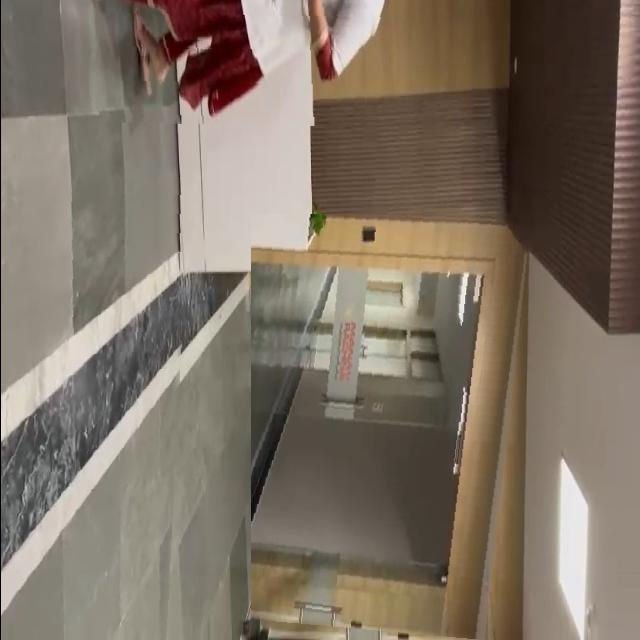door: (250, 214, 531, 640)
floor: (0, 184, 189, 640)
moving_object: (95, 0, 395, 127)
